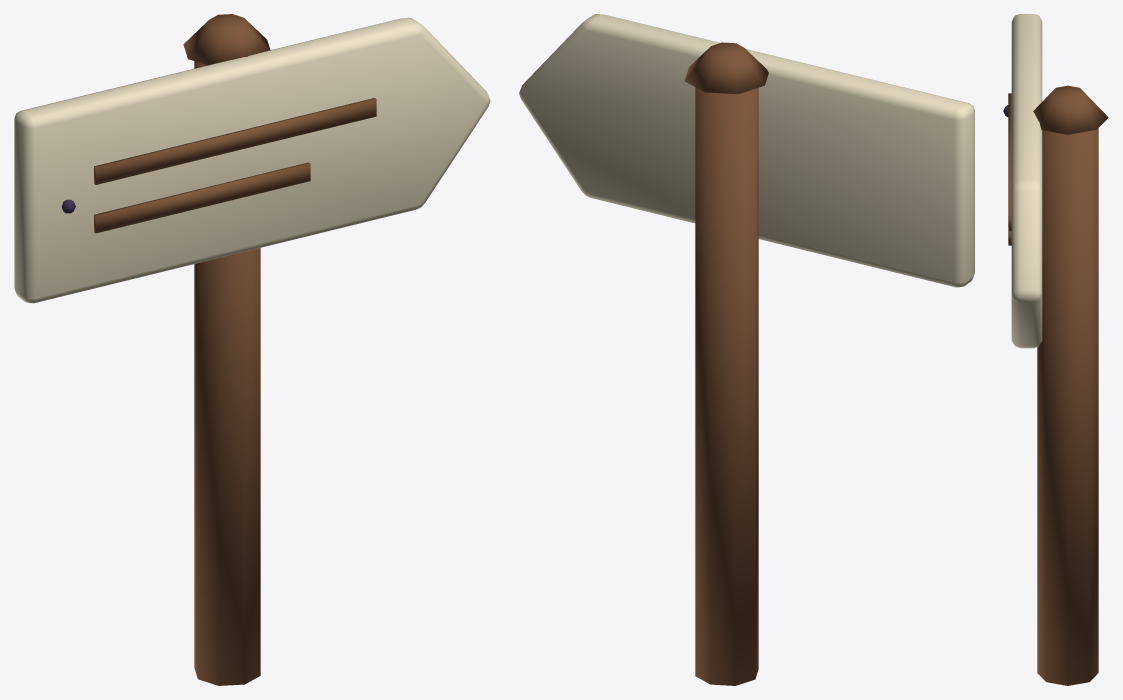
The model's file is signpost.glb.
The picture shows the model from 3 angles, left to right: view 1: azimuth 30°, elevation 25°; view 2: azimuth 150°, elevation 25°; view 3: azimuth 270°, elevation 25°; orthographic projection. The views are drawn at different scales.
Parts seen in each view (by area): view 1: signpost:mesh; view 2: signpost:mesh; view 3: signpost:mesh.
Boxes of the visible parts, left/top/right/bottom form: signpost:mesh: left=14, top=14, right=490, bottom=685; signpost:mesh: left=519, top=14, right=974, bottom=685; signpost:mesh: left=1003, top=14, right=1108, bottom=685.
Size of the model in its own units: 1.41 by 1.88 by 0.31.
